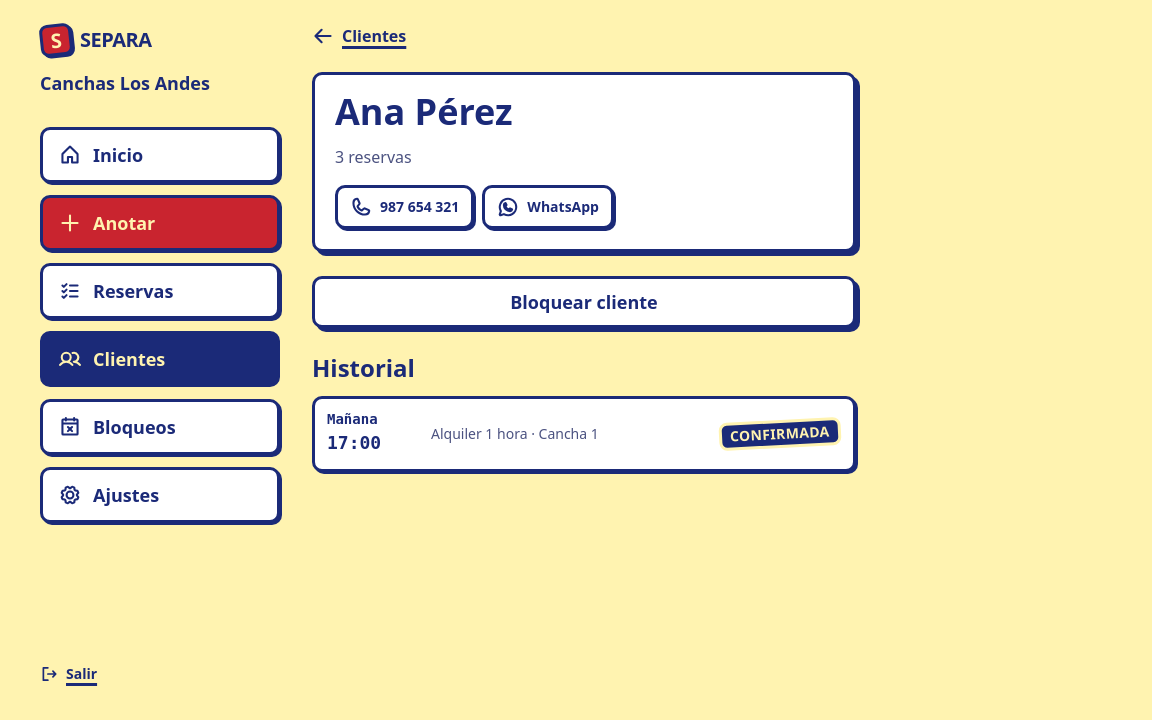
it: a customer › blocks only after asking again
This screenshot has width=1152, height=720.
Click the button "Bloquear cliente".
click(584, 302)  # box [312,276,856,328]
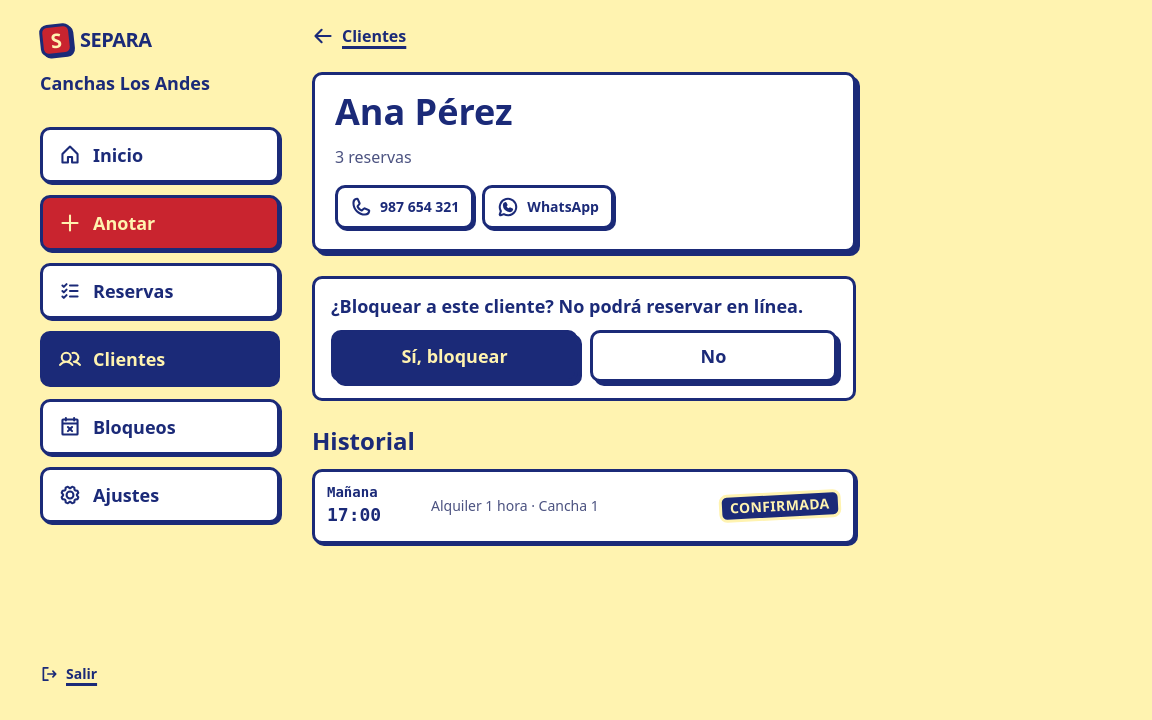
Click the button "Sí, bloquear".
click(454, 356)  # box [331,330,578,382]
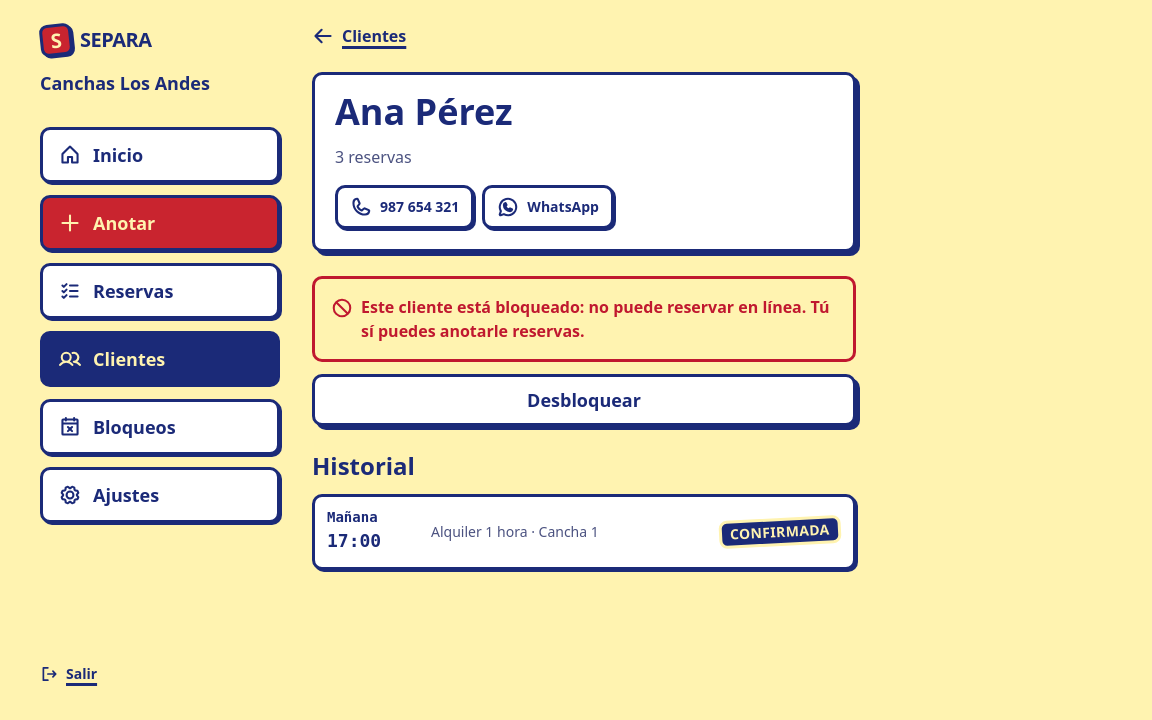
Expected: the text "está bloqueado" is shown, [361,296,830,342]
